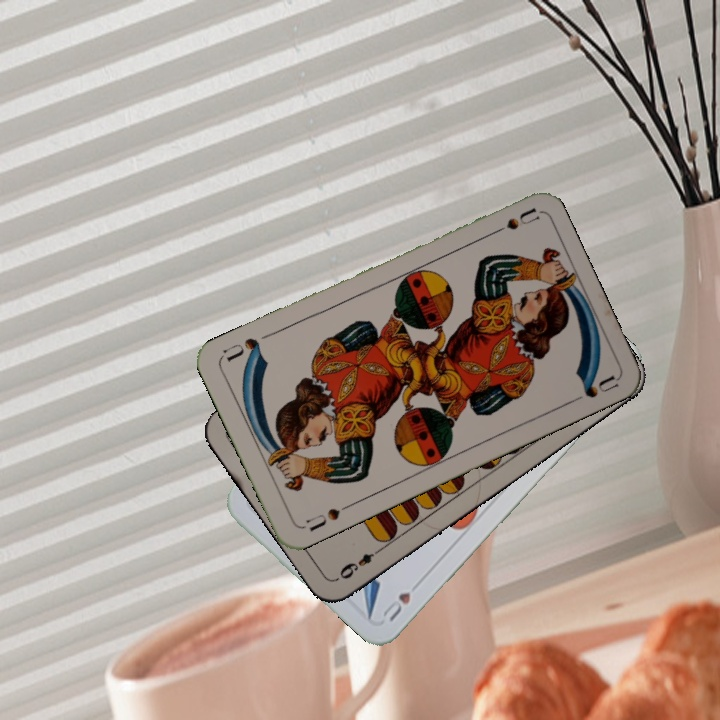E9: (335, 543, 385, 582)
HU: (378, 588, 414, 624)
SU: (483, 204, 541, 240), (302, 499, 355, 534)
